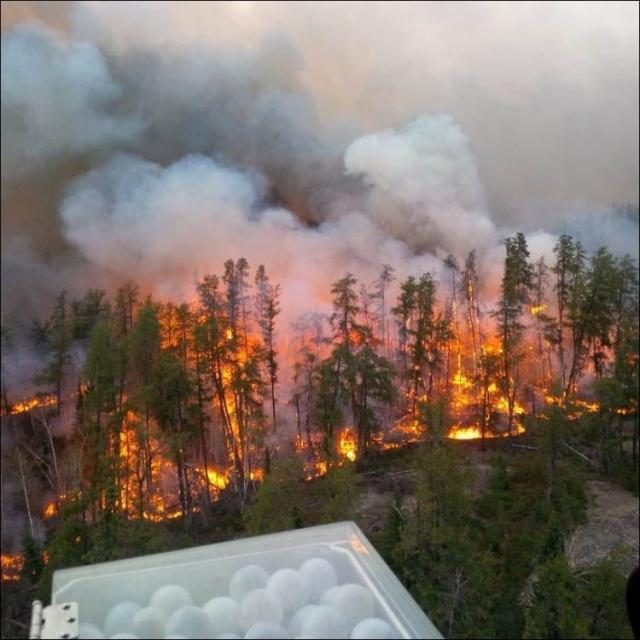Fire: (83, 397, 264, 518), (136, 293, 290, 426), (422, 330, 518, 432), (0, 379, 111, 437), (0, 536, 42, 600), (450, 369, 472, 412), (338, 428, 358, 462)
Smoke: (3, 41, 640, 274)
